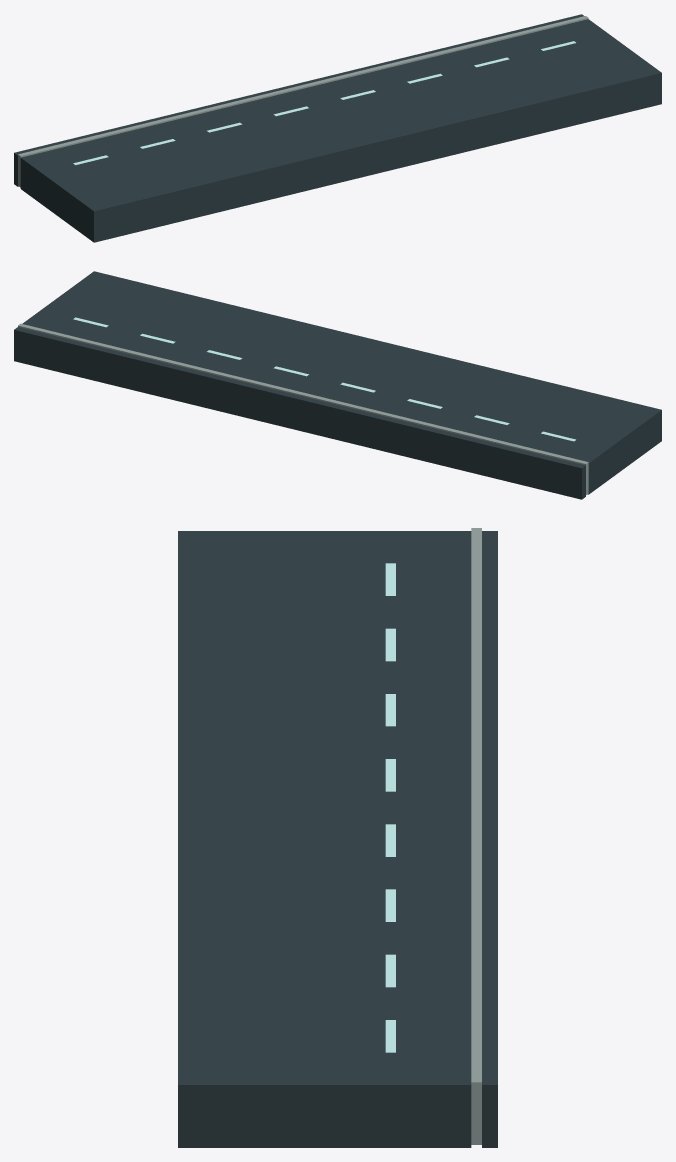
File: Road3.fbx
3 renders of one model, top to bottom at view 1: azimuth 30°, elevation 25°; view 2: azimuth 150°, elevation 25°; view 3: azimuth 270°, elevation 25°, orthographic. The views are drawn at different scales.
Visible parts, largest first — view 1: Cube.003; view 2: Cube.003; view 3: Cube.003.
Part boxes in pixels (x1,y1,x2,y2): Cube.003: (14, 14, 661, 242); Cube.003: (14, 271, 661, 499); Cube.003: (178, 528, 497, 1147).
Bounding box in the file's own units: 1270 × 69.88 × 310.
1 material, 1 textured.
